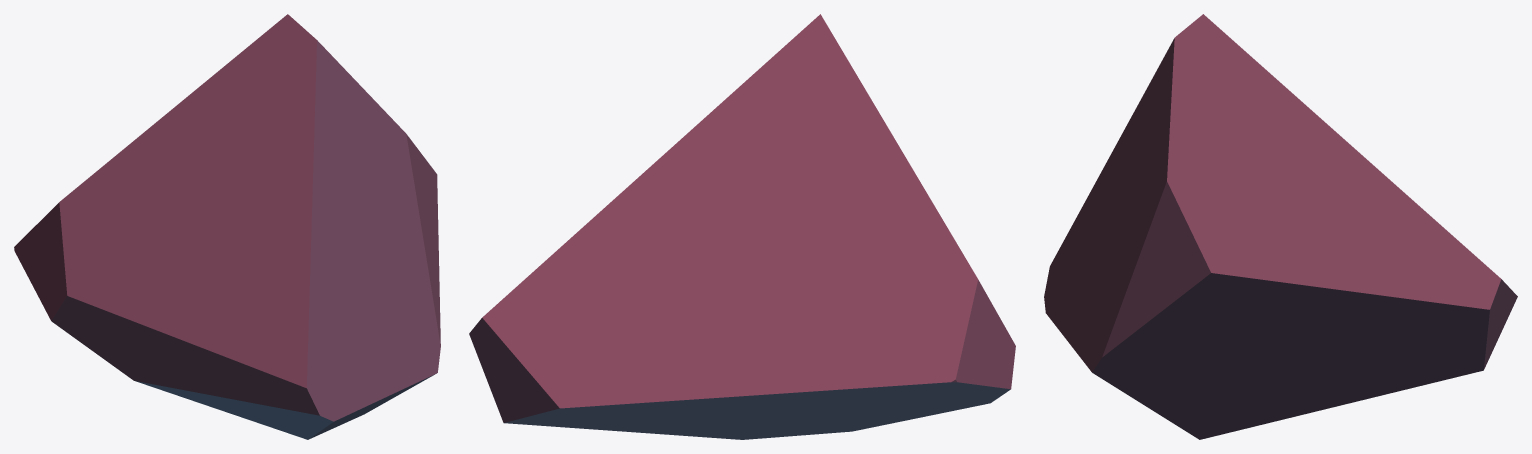
Rendered from geology-crystals-gemstone_v8.glb.
3 views of the same model, side by side, from view 1: azimuth 30°, elevation 25°; view 2: azimuth 150°, elevation 25°; view 3: azimuth 270°, elevation 25° (orthographic). The views are drawn at different scales.
Visible parts, largest first — view 1: gemstone_v8; view 2: gemstone_v8; view 3: gemstone_v8.
Part boxes in pixels (box(x1,y1,x2,y2)): gemstone_v8: box(14, 14, 440, 439); gemstone_v8: box(469, 14, 1015, 439); gemstone_v8: box(1044, 14, 1517, 439).
Size of the model in its own units: 14.45 by 15.05 by 16.5.
